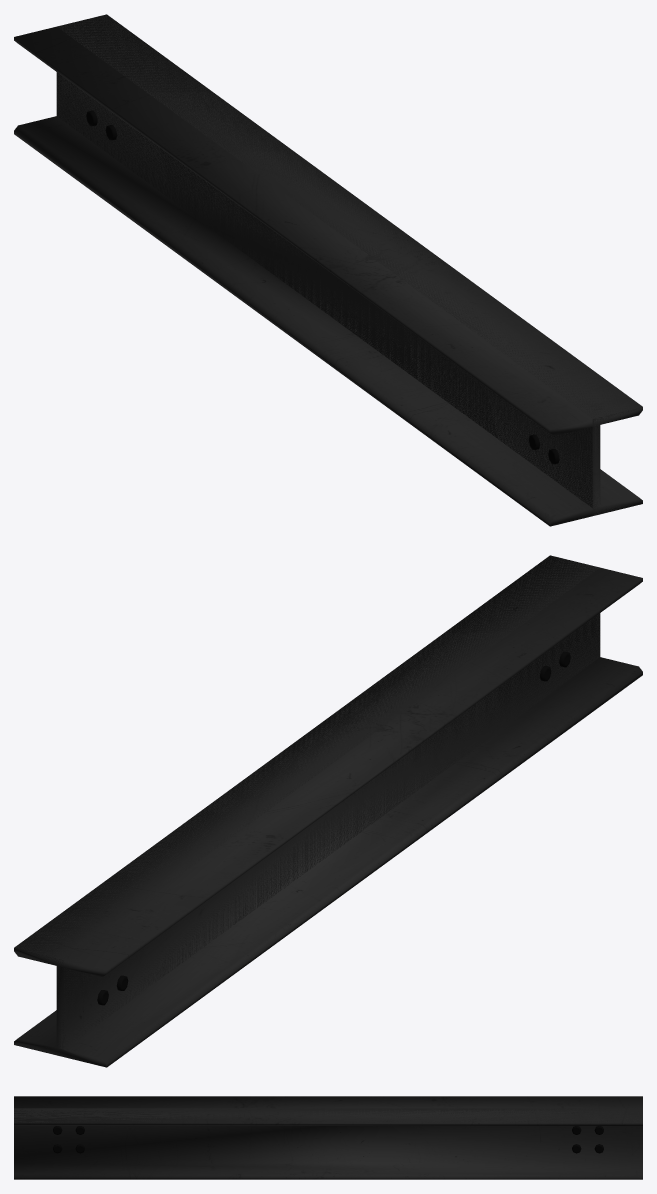
The model's file is ipn_n_stuff.fbx.
3 views of the same model, one above another, from view 1: azimuth 30°, elevation 25°; view 2: azimuth 150°, elevation 25°; view 3: azimuth 270°, elevation 25° (orthographic). The views are drawn at different scales.
Parts seen in each view (by area): view 1: IPN_full, IPN_half; view 2: IPN_full, IPN_half; view 3: IPN_full, IPN_half.
Boxes of the visible parts, <box> form: IPN_full: <box>14,14,642,526</box>; IPN_half: <box>56,15,641,515</box>; IPN_full: <box>14,555,642,1067</box>; IPN_half: <box>14,556,600,1055</box>; IPN_full: <box>14,1096,642,1179</box>; IPN_half: <box>14,1108,642,1122</box>.
Bounding box in the file's own units: 20 × 20 × 200.
2 materials, 1 textured.
